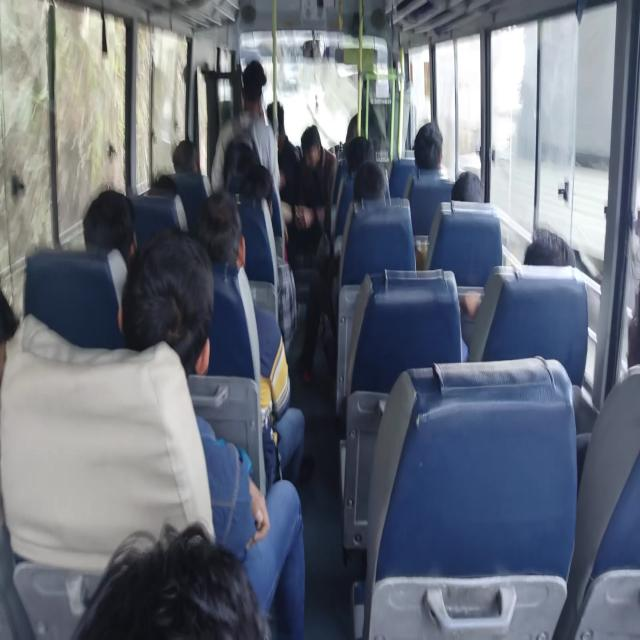person: (71, 523, 269, 637), (119, 228, 214, 378), (0, 280, 38, 627), (498, 227, 587, 367), (440, 169, 510, 328), (298, 122, 338, 248), (82, 190, 136, 270), (195, 188, 245, 271), (272, 101, 301, 206), (523, 229, 576, 270), (353, 159, 388, 206), (412, 121, 444, 172), (343, 135, 374, 176), (450, 171, 486, 204), (241, 60, 267, 95), (172, 139, 198, 173), (301, 125, 321, 151), (155, 174, 178, 193)
